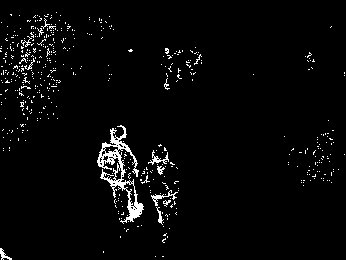person: (97, 118, 141, 228), (146, 139, 180, 246)
